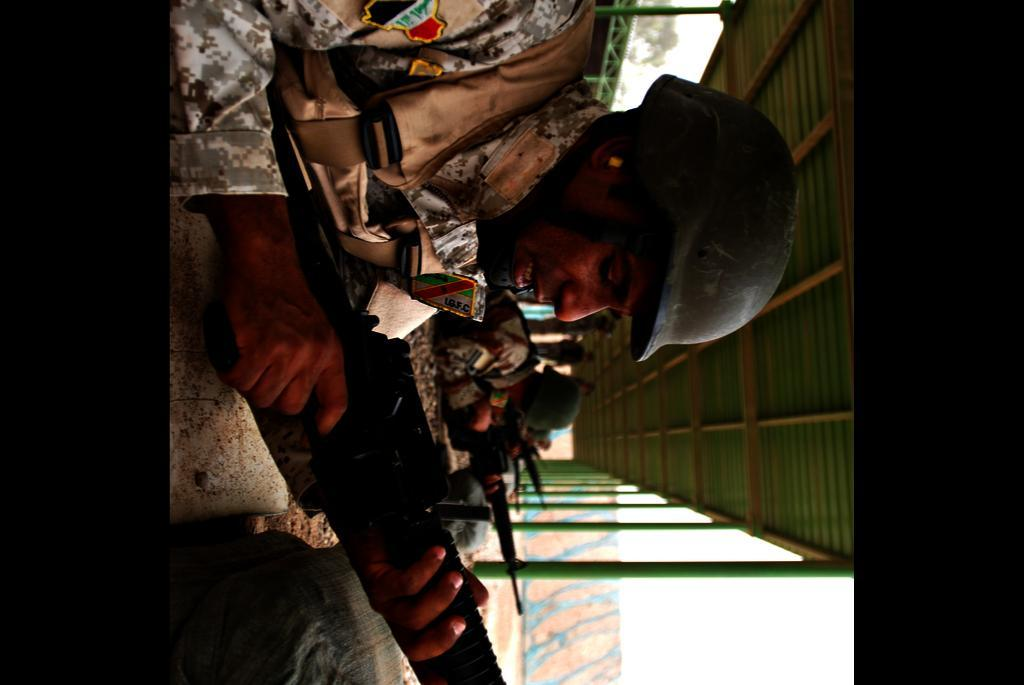gun: (300, 210, 583, 685)
